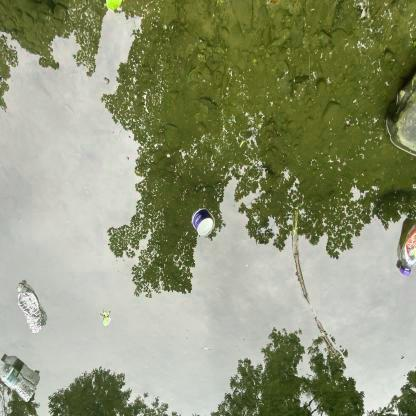Plastic: (13, 277, 47, 338), (0, 356, 40, 401), (393, 222, 416, 280)
Trash: (188, 205, 217, 241)
